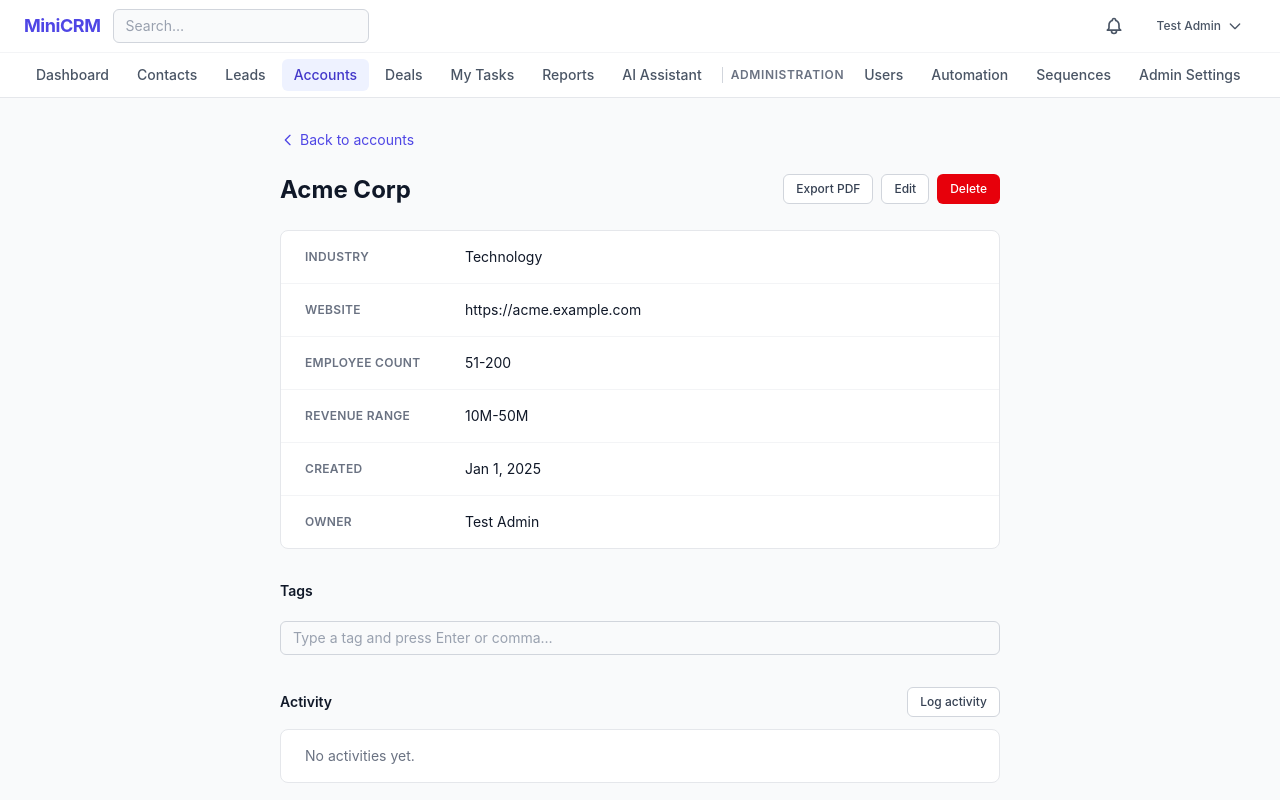
Test: AccountDetailPage › Export PDF button › shows an error message when the export fails
Click the button with test id "account-detail-export-pdf-button": (828, 189) top-left (783, 174), bottom-right (874, 204)
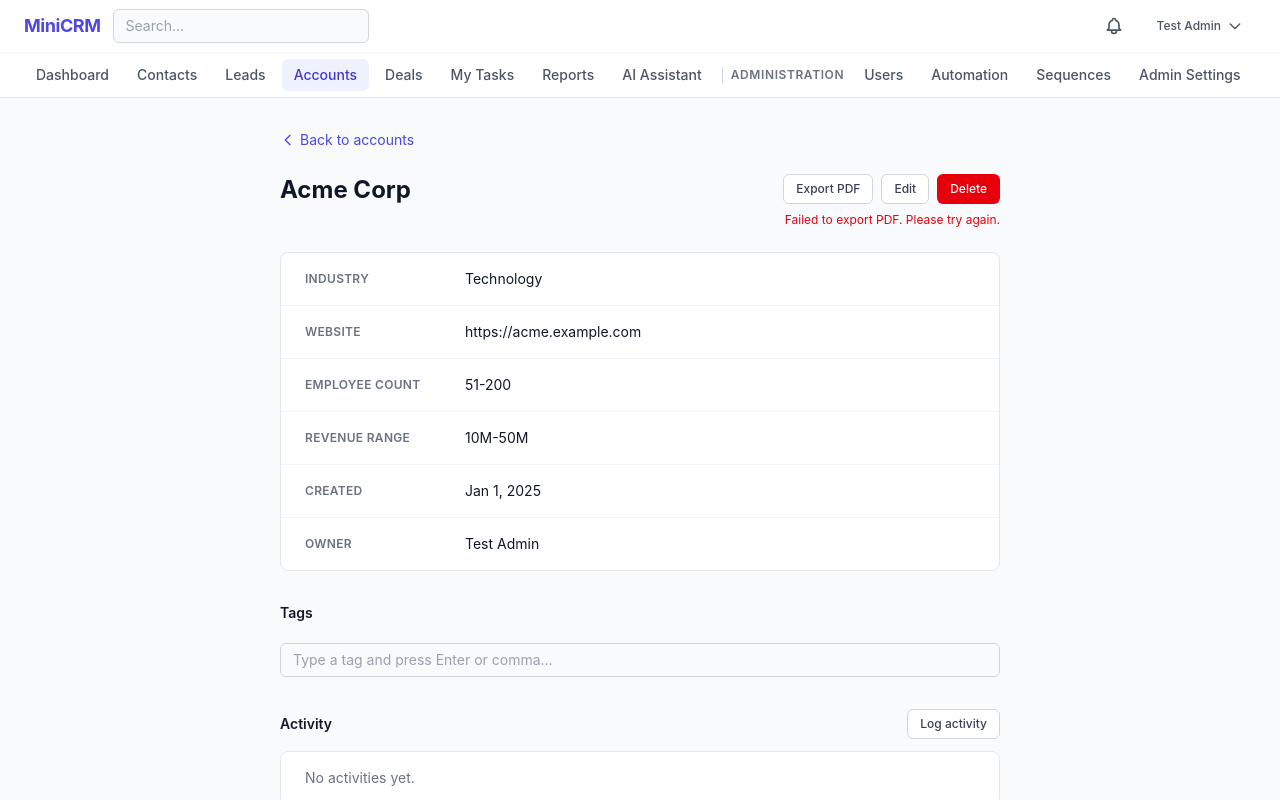
Check: the message "Failed to export PDF. Please try again." is shown, box top-left (785, 212), bottom-right (1000, 228)
